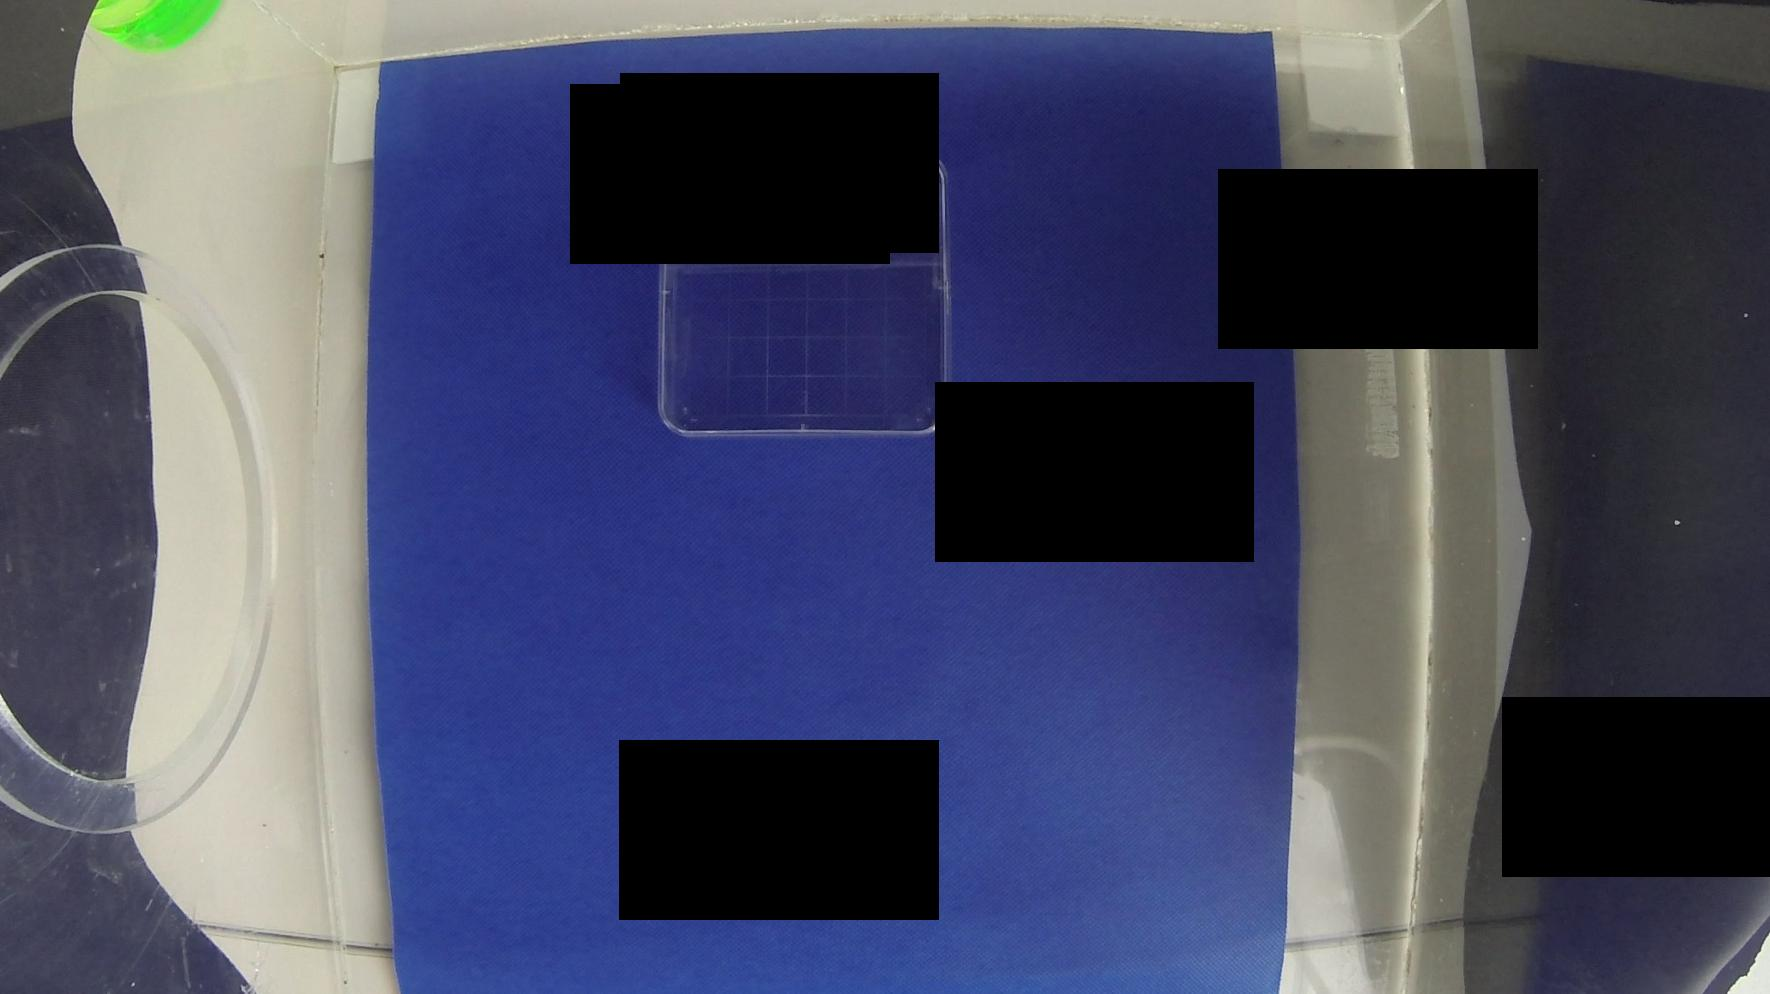larva: (880, 160, 936, 232)
